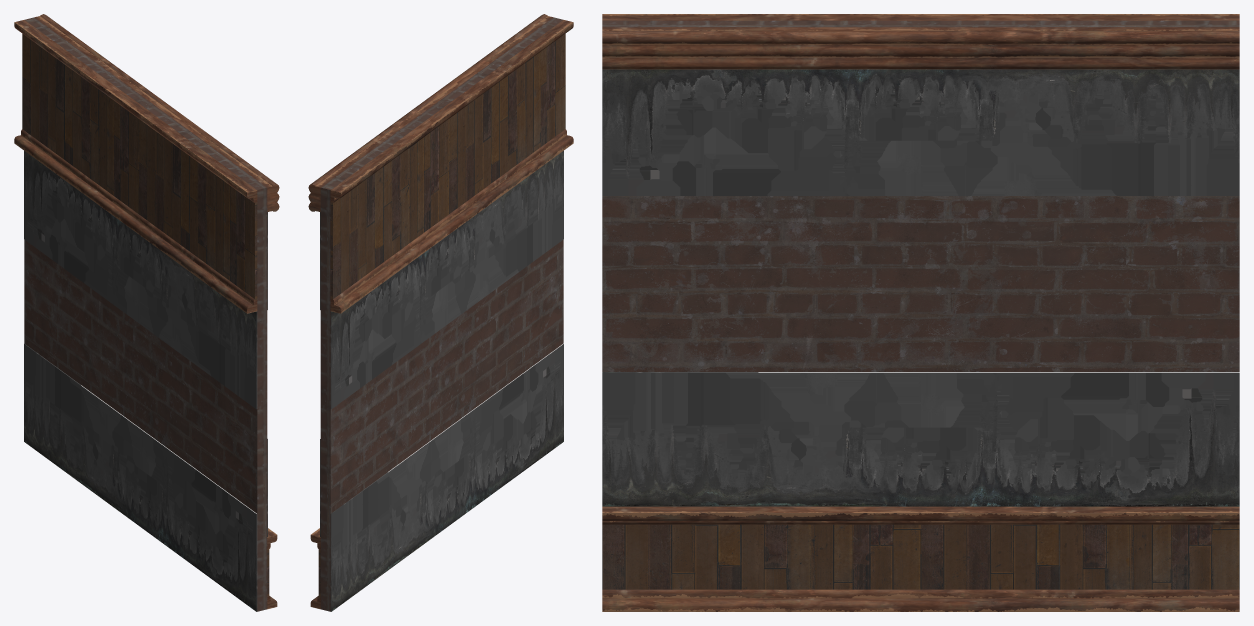
The model's file is Kit_BricksOldWoodWindowClose.fbx.
3 views of the same model, side by side, from view 1: azimuth 30°, elevation 25°; view 2: azimuth 150°, elevation 25°; view 3: azimuth 270°, elevation 25° (orthographic). The views are drawn at different scales.
Parts seen in each view (by area): view 1: Kit_BricksOldWoodWindowClose; view 2: Kit_BricksOldWoodWindowClose; view 3: Kit_BricksOldWoodWindowClose.
Boxes of the visible parts, x1=… form: Kit_BricksOldWoodWindowClose: x1=14, y1=14, x2=279, y2=611; Kit_BricksOldWoodWindowClose: x1=308, y1=14, x2=573, y2=611; Kit_BricksOldWoodWindowClose: x1=602, y1=14, x2=1239, y2=611.
Size of the model in its own units: 12.68 by 158 by 157.
